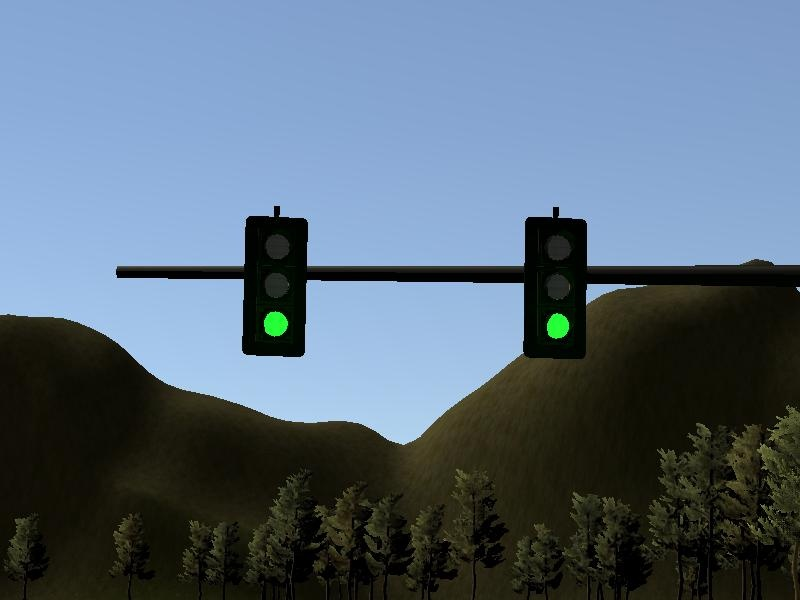green: (242, 217, 308, 358), (523, 218, 587, 360)
